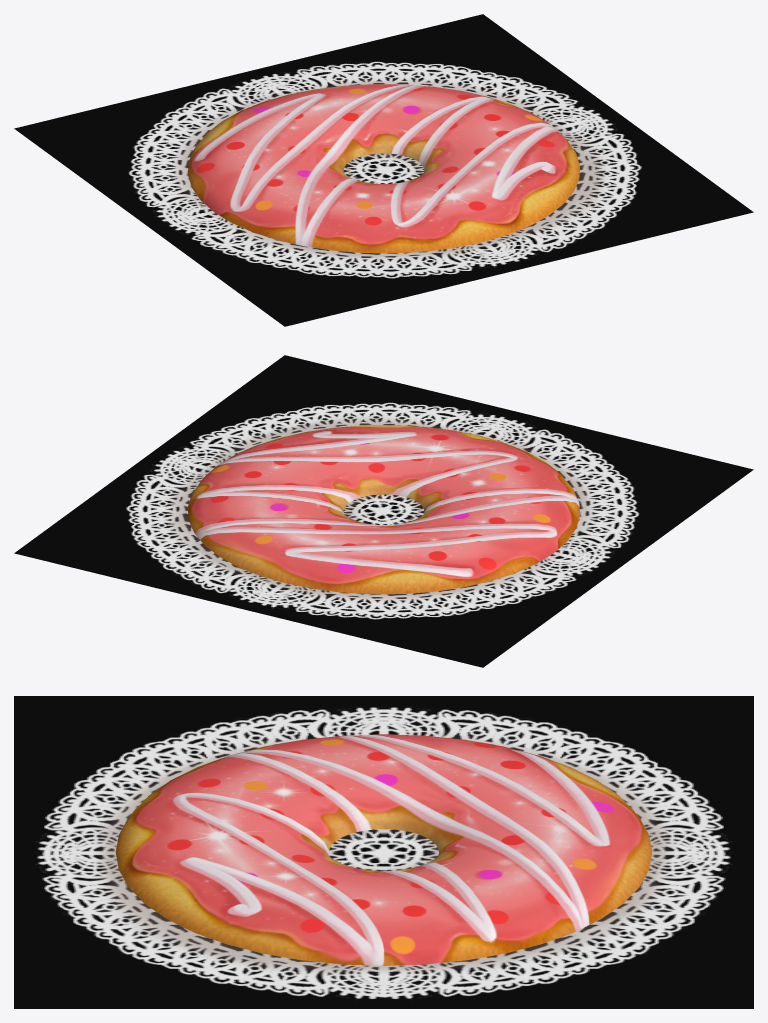
File: WarpA.fbx
3 renders of one model, top to bottom at view 1: azimuth 30°, elevation 25°; view 2: azimuth 150°, elevation 25°; view 3: azimuth 270°, elevation 25°, orthographic. The views are drawn at different scales.
Visible parts, largest first — view 1: pPlane1, WarpA; view 2: pPlane1, WarpA; view 3: pPlane1, WarpA.
Boxes of the visible parts, <box> form: pPlane1: <box>14,14,753,326</box>; WarpA: <box>188,84,579,253</box>; pPlane1: <box>14,355,753,667</box>; WarpA: <box>188,425,579,594</box>; pPlane1: <box>14,696,753,1008</box>; WarpA: <box>115,734,652,965</box>.
Bounding box in the file's own units: 4.6 × 0.1541 × 4.6.
